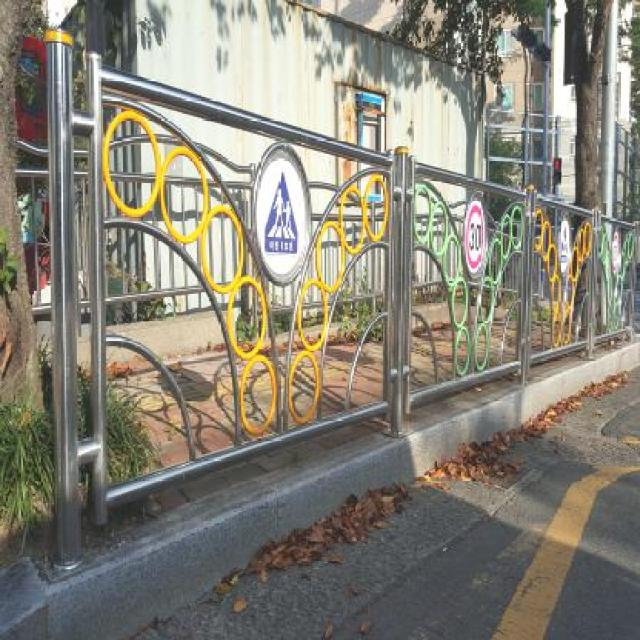bump: (59, 424, 418, 640), (406, 387, 527, 464), (529, 360, 602, 413)
fence: (27, 9, 416, 458), (389, 132, 640, 352)
